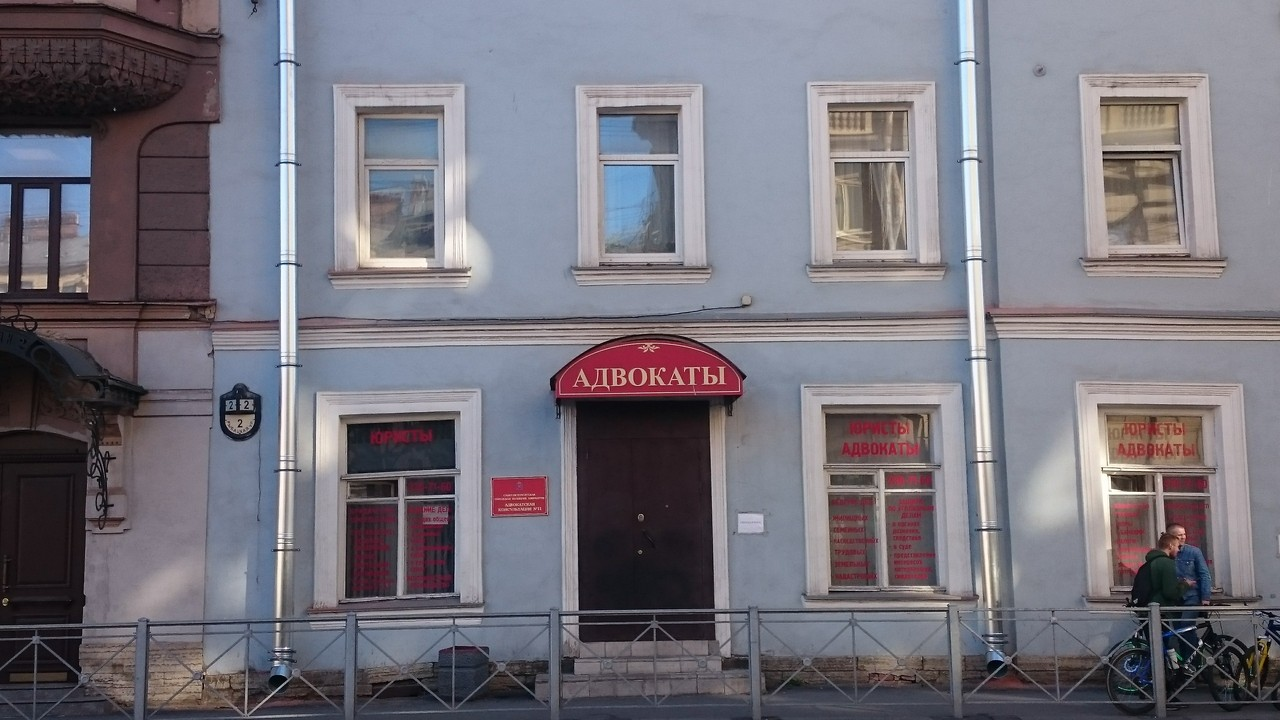signboard: (549, 338, 746, 396)
window: (1105, 407, 1227, 592), (824, 407, 939, 592), (345, 414, 455, 603), (1101, 95, 1187, 252), (358, 112, 446, 264), (829, 107, 914, 262), (597, 108, 683, 260)
